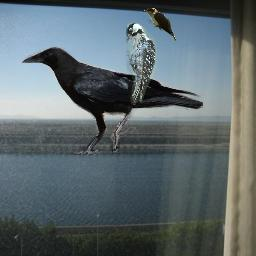Crow: (21, 45, 203, 155)
Cuckoo: (142, 8, 176, 42)
Woodpecker: (126, 23, 157, 105)
